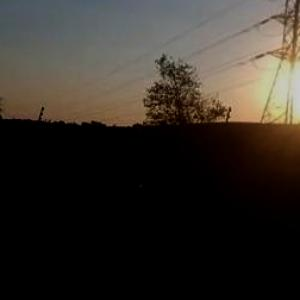follow: (80, 126, 172, 299)
